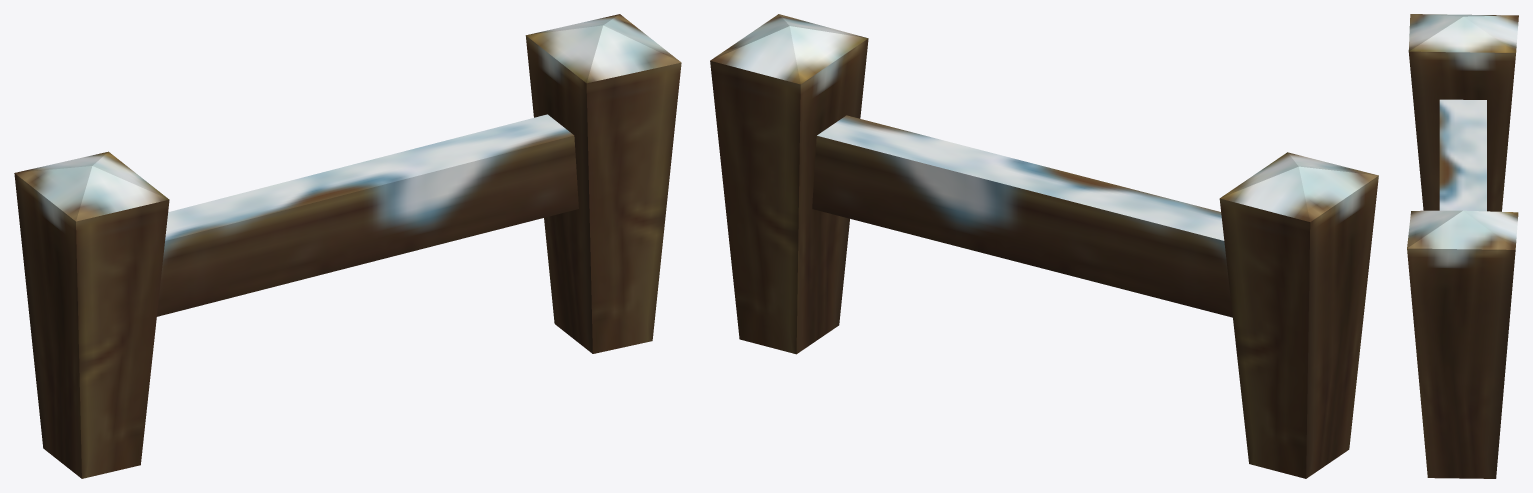
Rendered from LanGan03.FBX.
3 renders of one model, left to right at view 1: azimuth 30°, elevation 25°; view 2: azimuth 150°, elevation 25°; view 3: azimuth 270°, elevation 25°, orthographic. The views are drawn at different scales.
Visible parts, largest first — view 1: LanGan01; view 2: LanGan01; view 3: LanGan01.
Part boxes in pixels (x1,y1,x2,y2): LanGan01: (14,14,681,478); LanGan01: (710,14,1378,478); LanGan01: (1407,14,1518,478).
Size of the model in its own units: 57.31 by 27.69 by 10.98.
